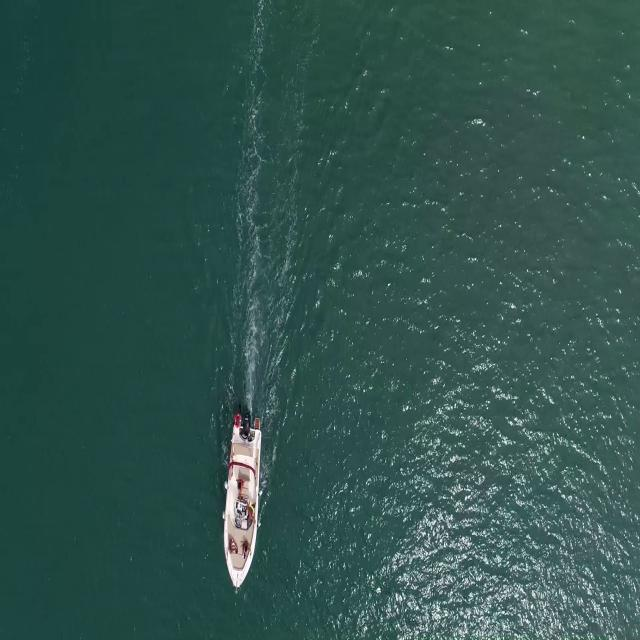boat: (220, 418, 263, 592)
life_buoy: (233, 414, 241, 426)
person: (226, 537, 238, 559), (246, 503, 257, 526), (235, 476, 245, 500), (241, 539, 251, 557)
